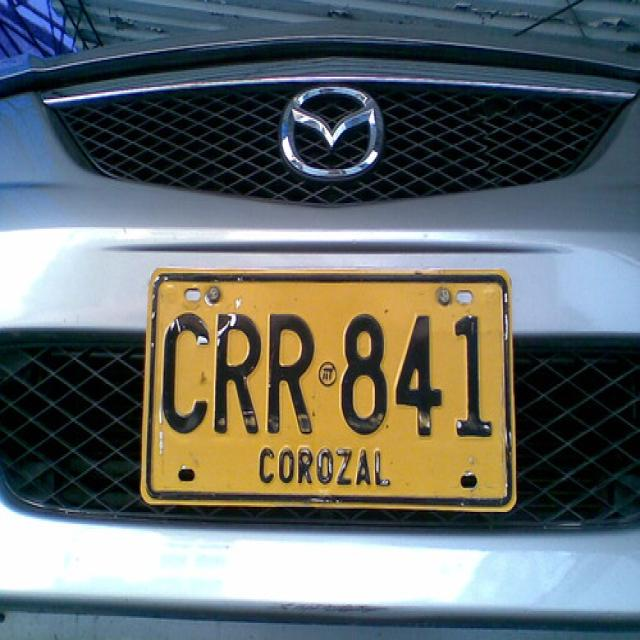placas: (154, 279, 502, 444)
